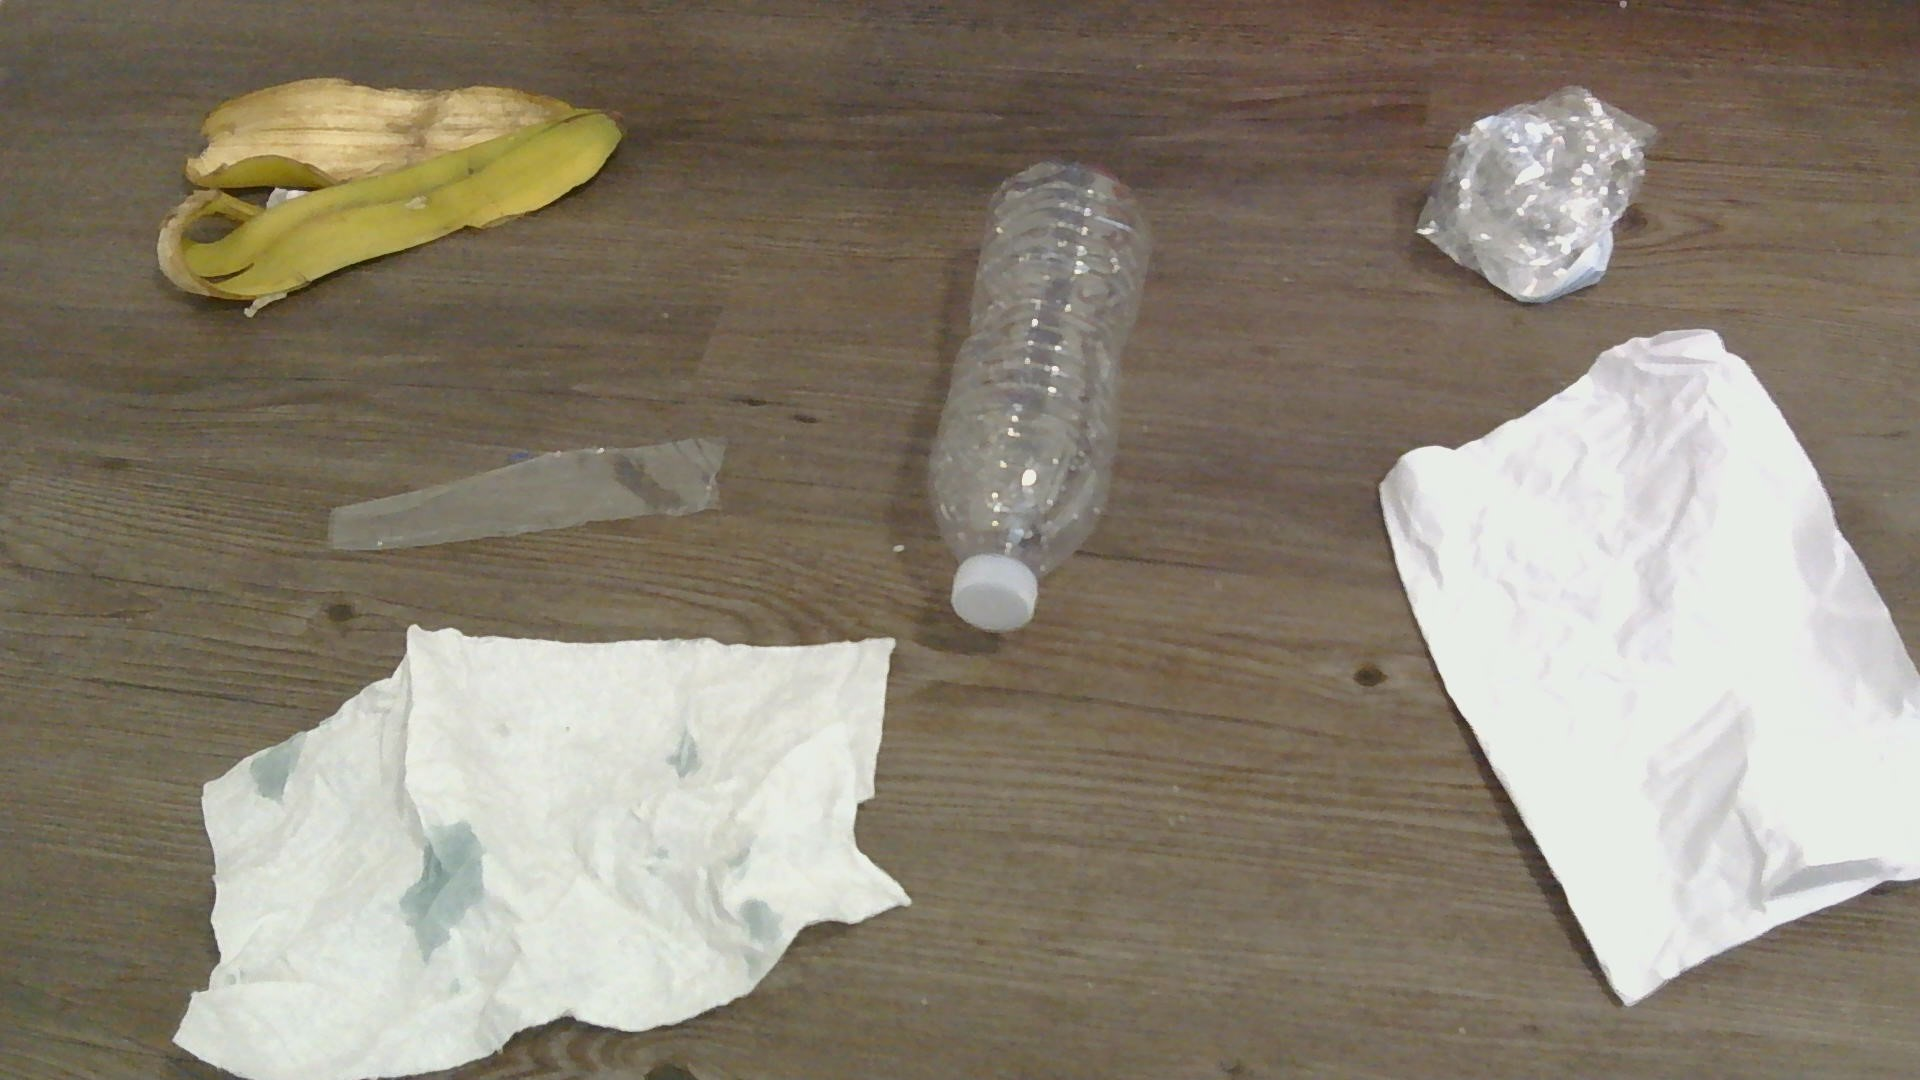banana peel: (158, 78, 621, 313)
bottle: (930, 150, 1155, 640)
crushed bottle: (1410, 78, 1659, 303)
napkin: (186, 630, 915, 1080)
paper: (1374, 330, 1917, 1000)
paper ball: (1374, 330, 1917, 1000)
plastic piece: (318, 426, 723, 555)
